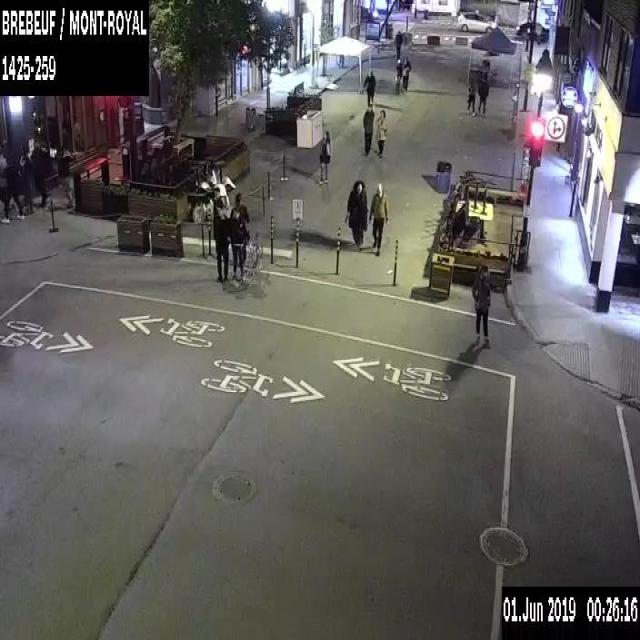pedestrian: (210, 183, 231, 284), (234, 182, 250, 286), (472, 260, 491, 343), (30, 134, 51, 208), (0, 153, 23, 220), (346, 180, 366, 252), (369, 179, 388, 253), (58, 146, 74, 206), (317, 129, 331, 184), (362, 105, 374, 154), (377, 109, 387, 158), (363, 67, 376, 103), (477, 77, 488, 116), (466, 79, 476, 116), (394, 57, 403, 92), (401, 58, 410, 89), (393, 28, 400, 58)
vehicle: (456, 10, 496, 31), (515, 21, 549, 42)
